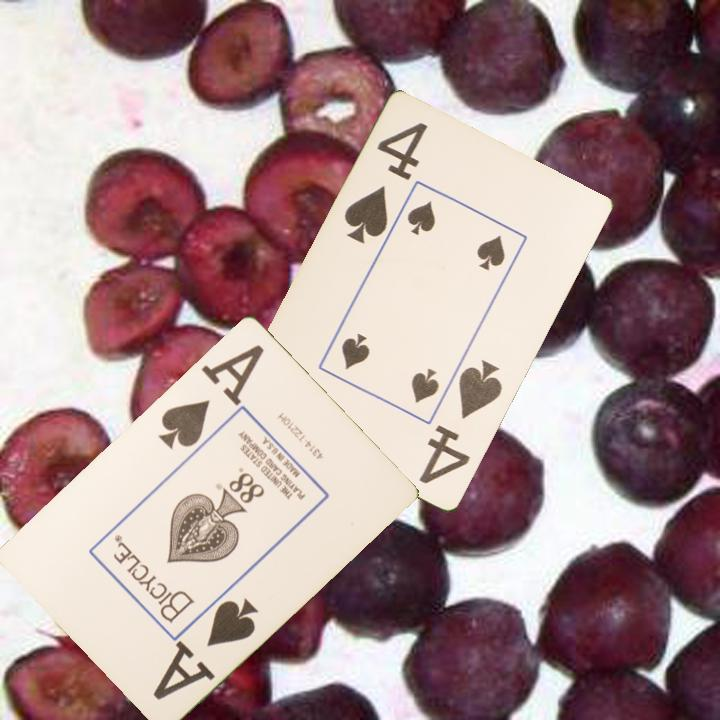4s: (415, 357, 506, 488), (340, 119, 431, 248)
As: (149, 593, 262, 702), (154, 351, 256, 451)
